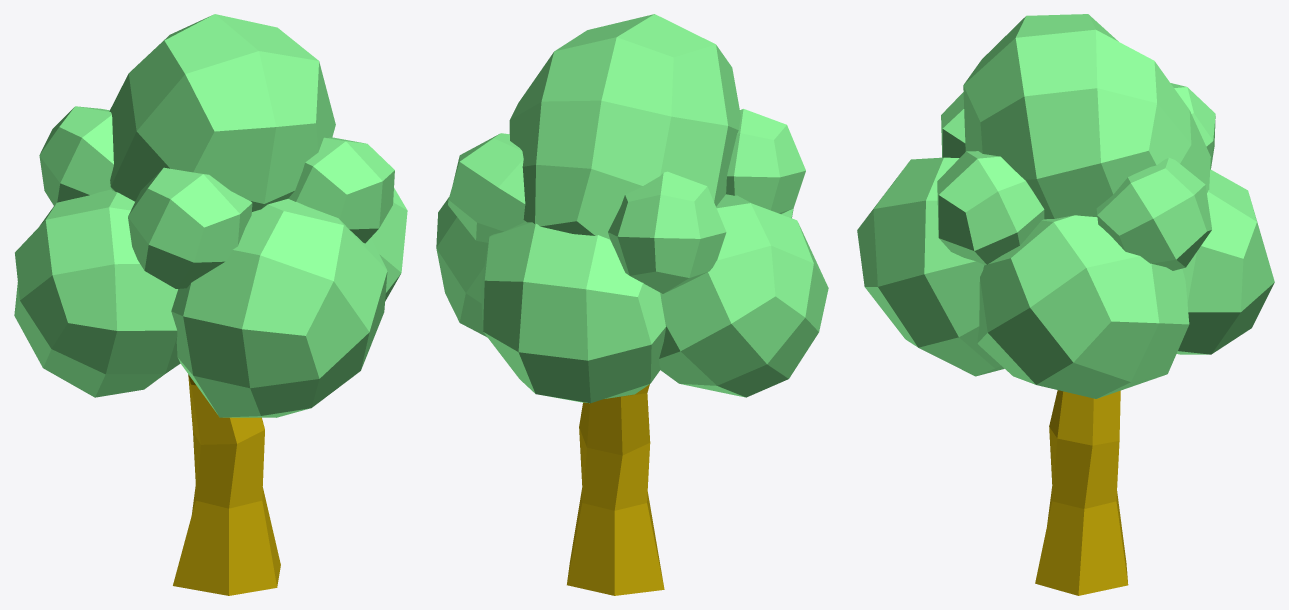
Rendered from Tree_type_4.fbx.
3 renders of one model, left to right at view 1: azimuth 30°, elevation 25°; view 2: azimuth 150°, elevation 25°; view 3: azimuth 270°, elevation 25°, orthographic. The views are drawn at different scales.
Visible parts, largest first — view 1: pPlatonic54, pPlatonic51, pPlatonic53, pCylinder63, pPlatonic59, pPlatonic58, pPlatonic56, pPlatonic52; view 2: pPlatonic51, pPlatonic55, pPlatonic53, pCylinder63, pPlatonic56, pPlatonic57, pPlatonic59, pPlatonic52; view 3: pPlatonic51, pPlatonic52, pPlatonic54, pCylinder63, pPlatonic55, pPlatonic58, pPlatonic57, pPlatonic59, pPlatonic56.
Part boxes in pixels (x1,y1,x2,y2): pPlatonic54: (171,199,387,417); pPlatonic51: (109,14,335,211); pPlatonic53: (14,189,180,397); pCylinder63: (173,374,280,595); pPlatonic59: (128,167,252,288); pPlatonic58: (288,137,394,243); pPlatonic56: (39,106,113,205); pPlatonic52: (371,188,407,301); pPlatonic51: (509,14,740,239); pPlatonic55: (480,222,666,403); pPlatonic53: (659,194,828,397); pCylinder63: (567,384,664,595); pPlatonic56: (608,171,726,293); pPlatonic57: (448,133,525,242); pPlatonic59: (726,109,805,213); pPlatonic52: (436,197,488,337); pPlatonic51: (963,14,1210,219); pPlatonic52: (977,215,1189,398); pPlatonic54: (857,157,1004,376); pCylinder63: (1035,390,1128,595); pPlatonic55: (1176,169,1274,354); pPlatonic58: (937,151,1044,264); pPlatonic57: (1096,158,1211,270); pPlatonic59: (941,92,965,157); pPlatonic56: (1170,83,1215,169).
Size of the model in its own units: 45.58 by 65.83 by 46.21.
